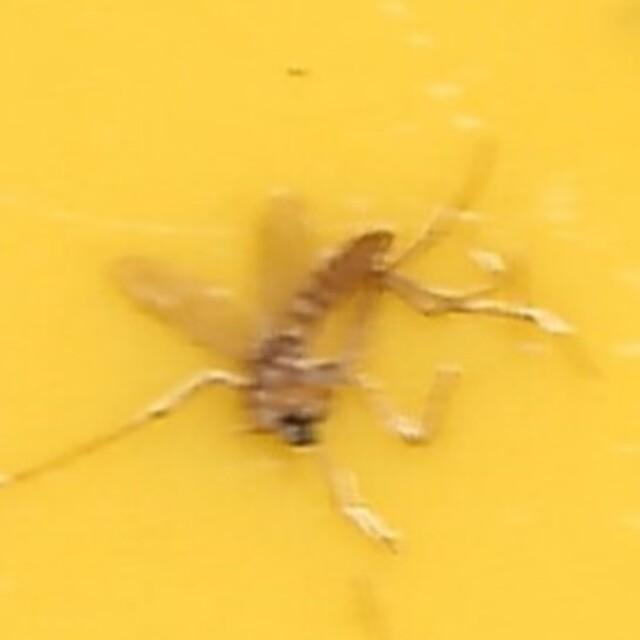Nematocera: (234, 214, 406, 426)
